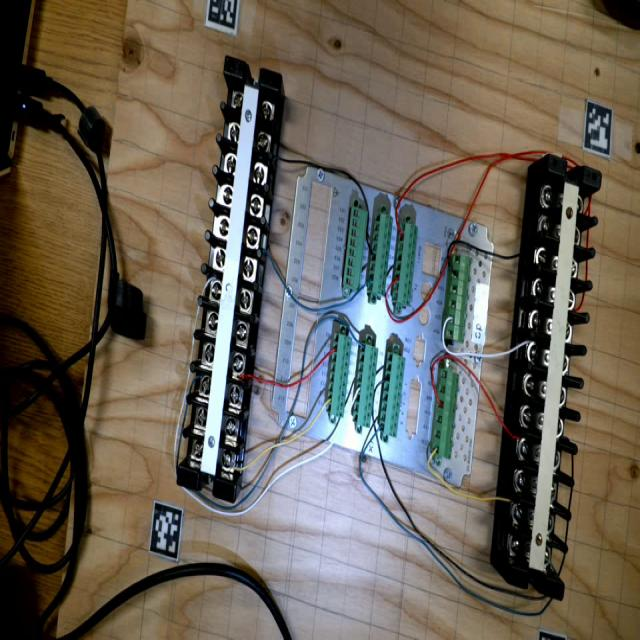Flathead_Block: (507, 155, 604, 601)
Phillips_Block: (175, 56, 284, 503)
Terminal_1: (431, 368, 460, 460), (444, 254, 472, 343)
Terminal_2: (378, 352, 406, 438), (325, 332, 353, 417), (391, 222, 419, 307), (352, 343, 379, 428), (367, 212, 393, 297)
